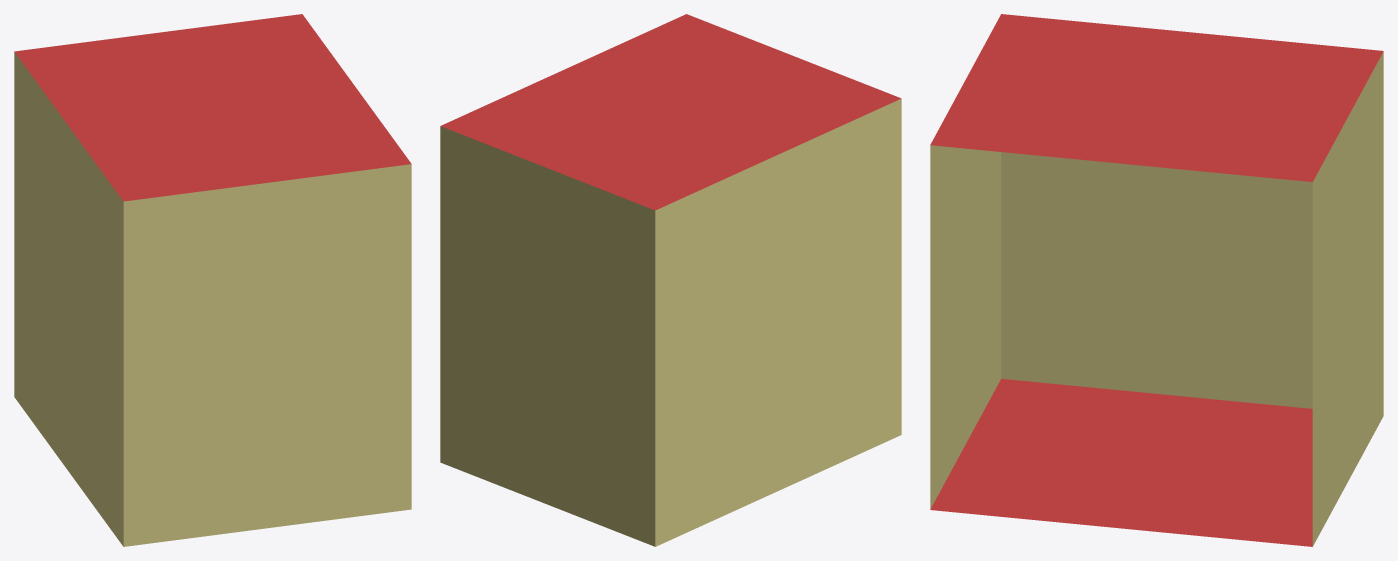
3 views of the same model, side by side, from view 1: azimuth 30°, elevation 25°; view 2: azimuth 150°, elevation 25°; view 3: azimuth 270°, elevation 25° (orthographic). The views are drawn at different scales.
Size of the model in its own units: 5.74 by 6.54 by 5.81.
